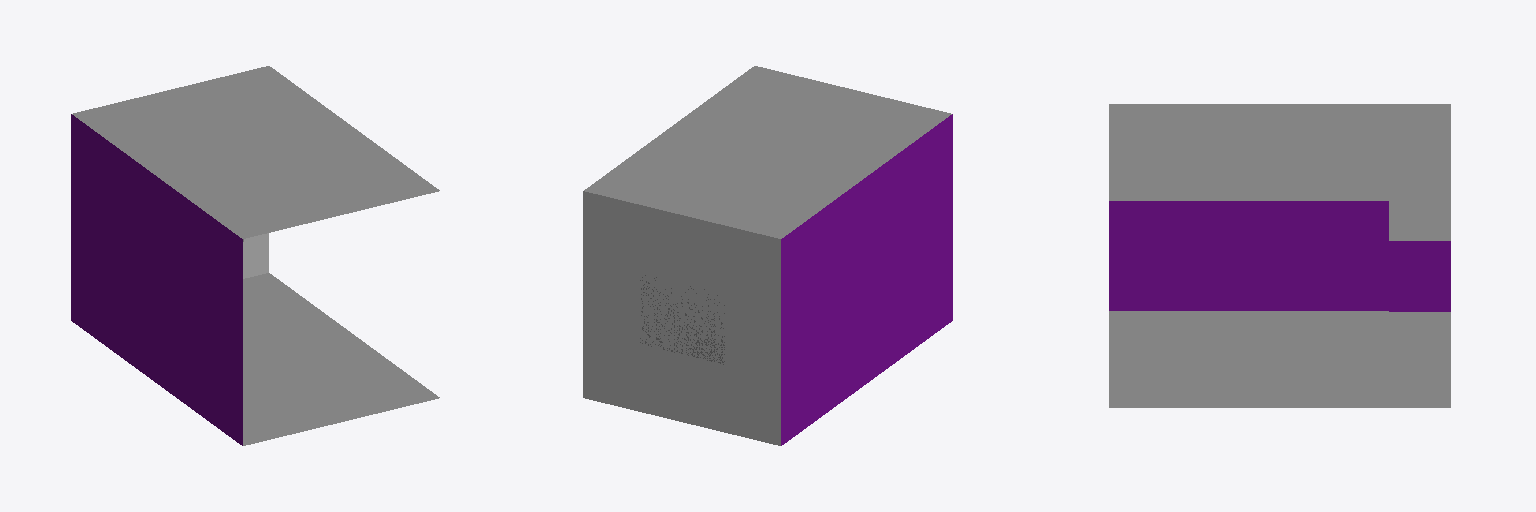
The model's file is caja2.obj.
The picture shows the model from 3 angles: view 1: azimuth 30°, elevation 25°; view 2: azimuth 150°, elevation 25°; view 3: azimuth 270°, elevation 25°; orthographic projection.
Visible parts, largest first — view 1: Box01; view 2: Box01, Box02; view 3: Box01, Box02.
Boxes of the visible parts, x1,y1,x2,y2 form: Box01: [71, 66, 439, 445]; Box01: [583, 66, 952, 445]; Box02: [640, 275, 724, 364]; Box01: [1109, 104, 1450, 407]; Box02: [1389, 201, 1450, 311].
Bounding box in the file's own units: 40 × 40 × 60.